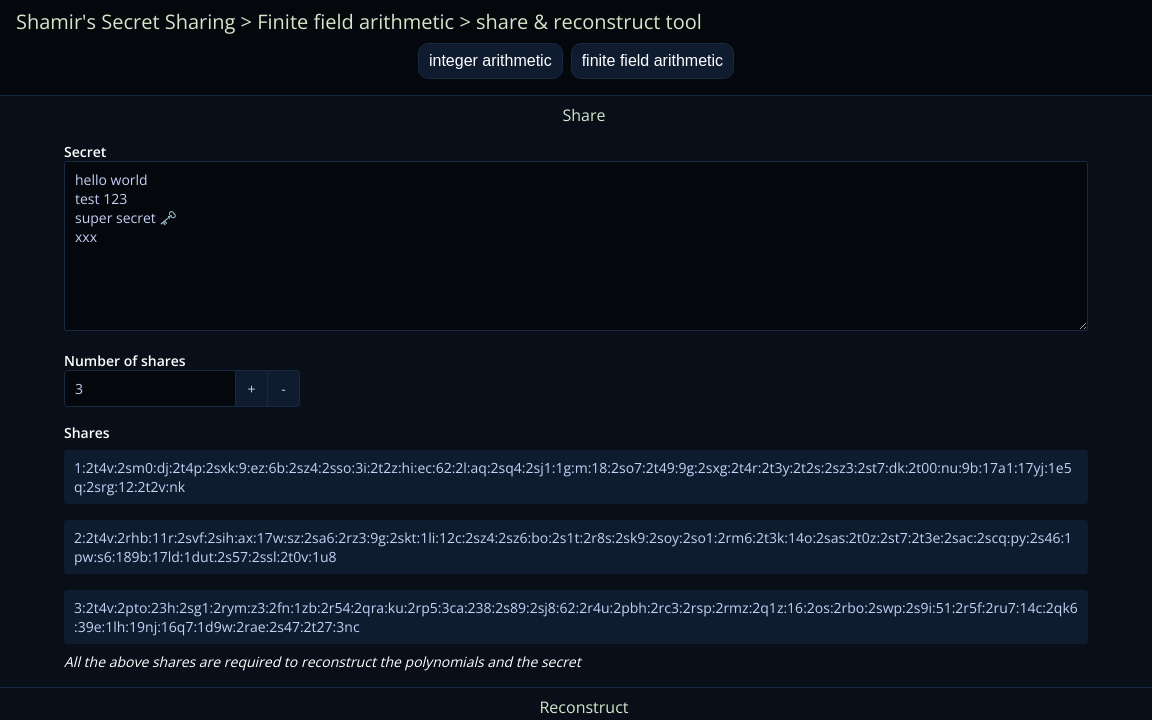
Test: finite field - share / reconstruct tool page › reconstructs the secret
Replace the text in the text box with test id "secret" with "         abc         def         🗝️🔐⚔️         jasjhbadfbdh asdasd asd" at (576, 246), box [64,161,1088,331]
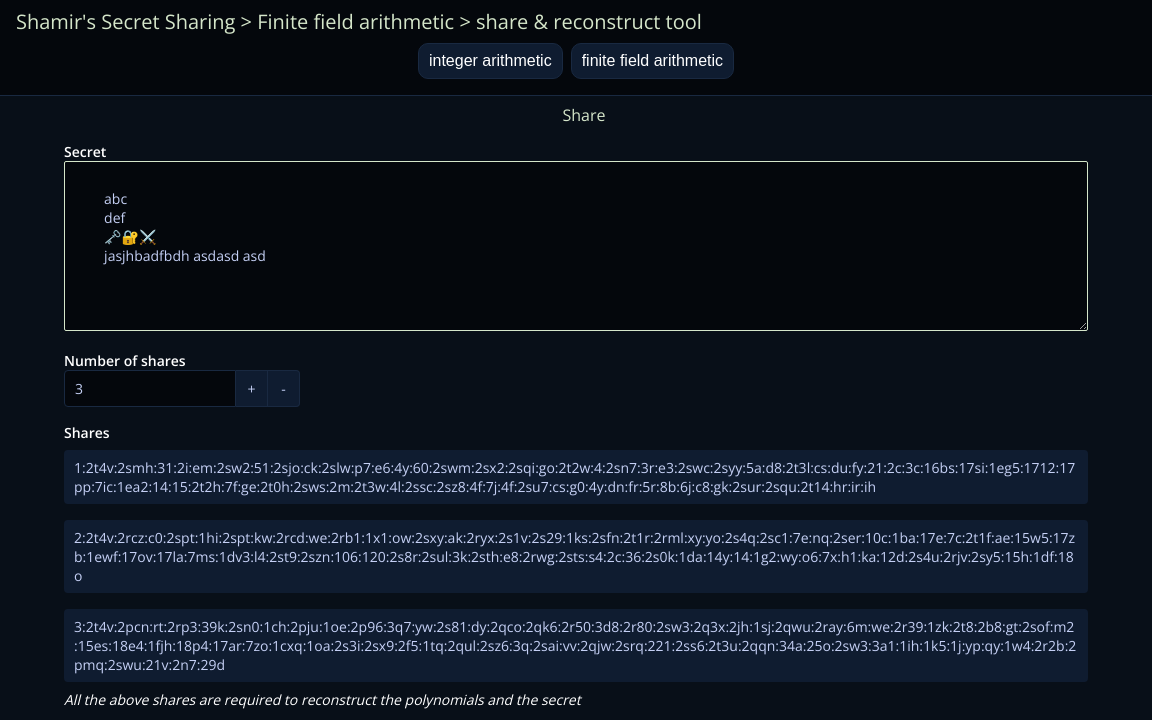
Scroll
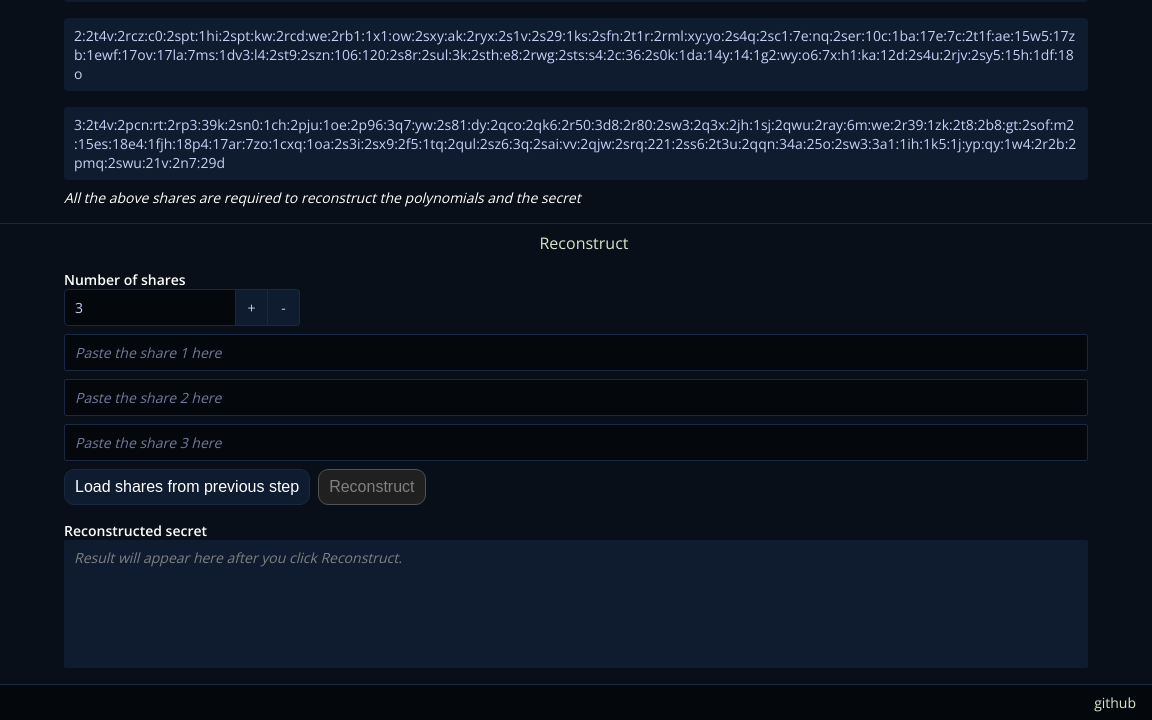
Click the button "Load shares from previous step".
click(187, 487)  # box [64,469,310,505]
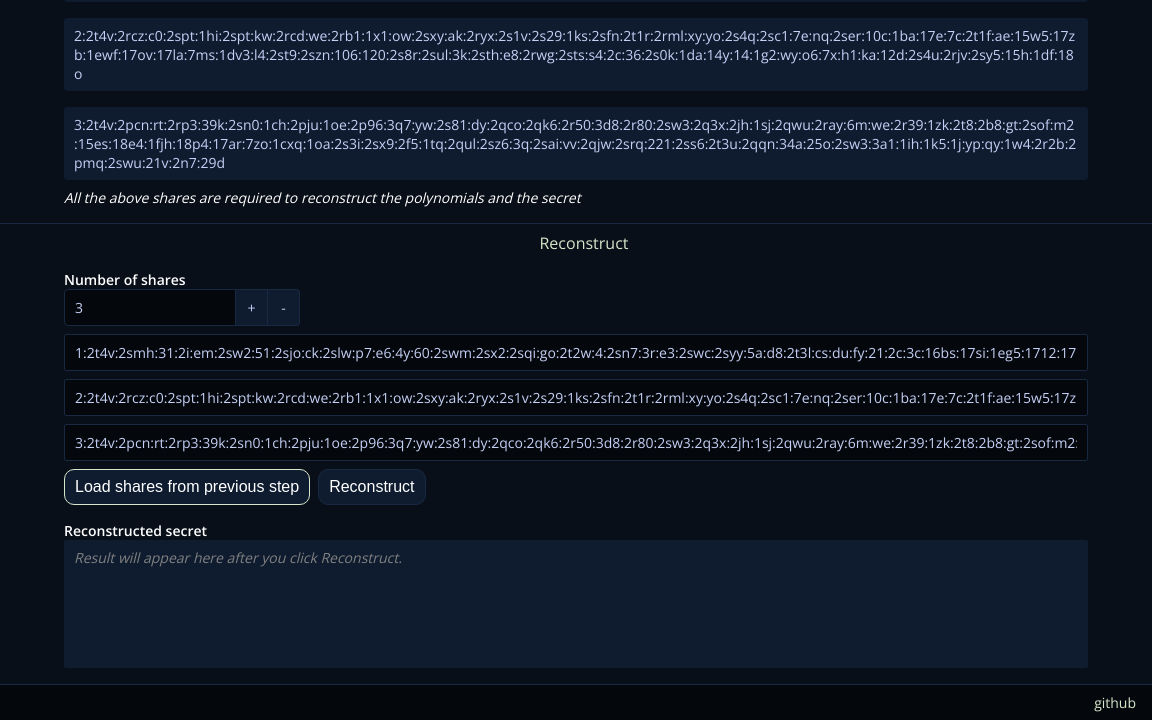
Click the button "Reconstruct".
click(372, 487)  # box [318,469,425,505]
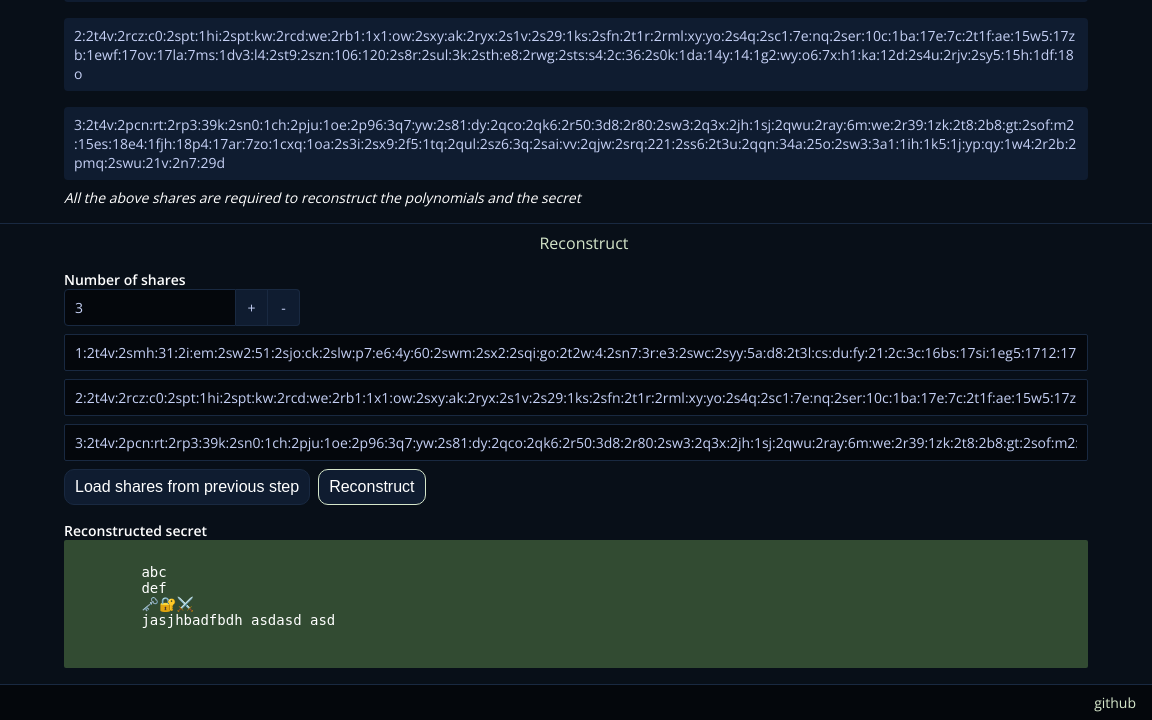
Expected: the text with test id "reconstructed-secret" reads "abc def 🗝️🔐⚔️ jasjhbadfbdh asdasd asd", [74,564,335,628]
